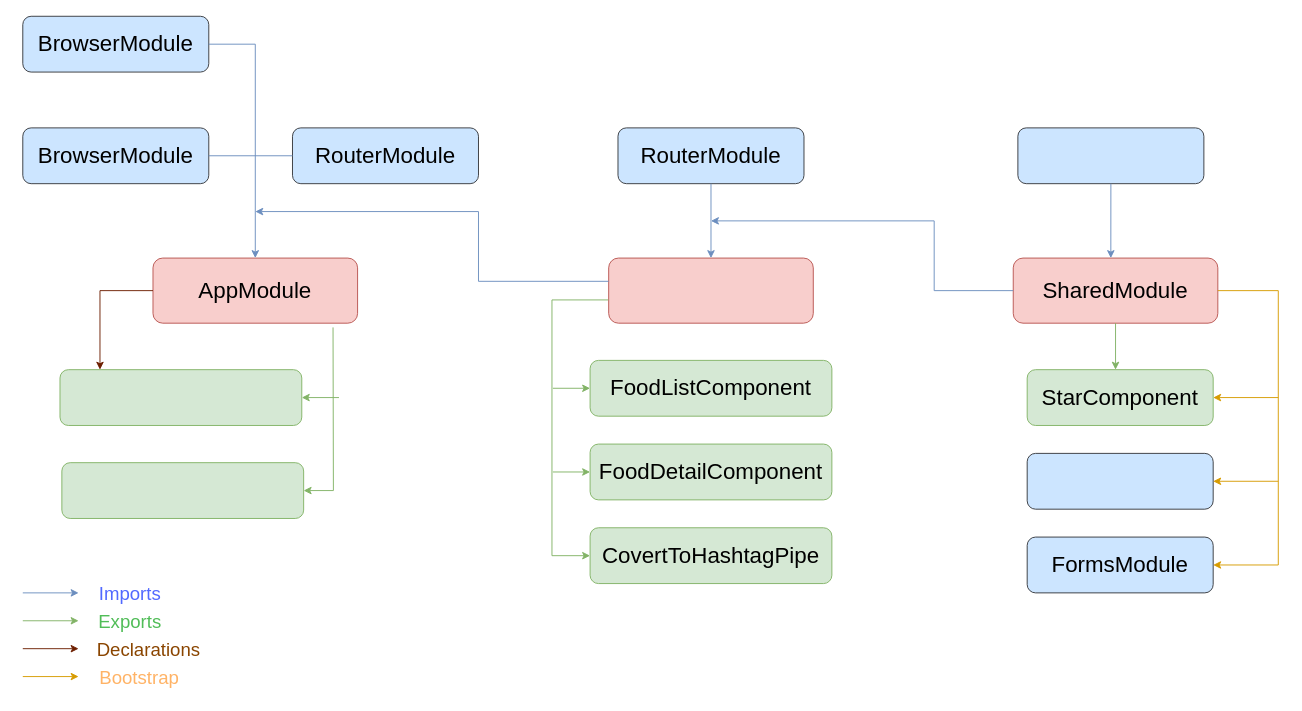
Image size: 1302x711. Some labels were removed from this diagram. Each missing label, with the box of its shape:
AppComponent: (59, 369, 302, 425)
CommomModule: (1026, 452, 1213, 509)
CommonModule: (1017, 127, 1204, 184)
FoodModule: (608, 257, 813, 323)
WelcomeComponent: (61, 462, 304, 518)
